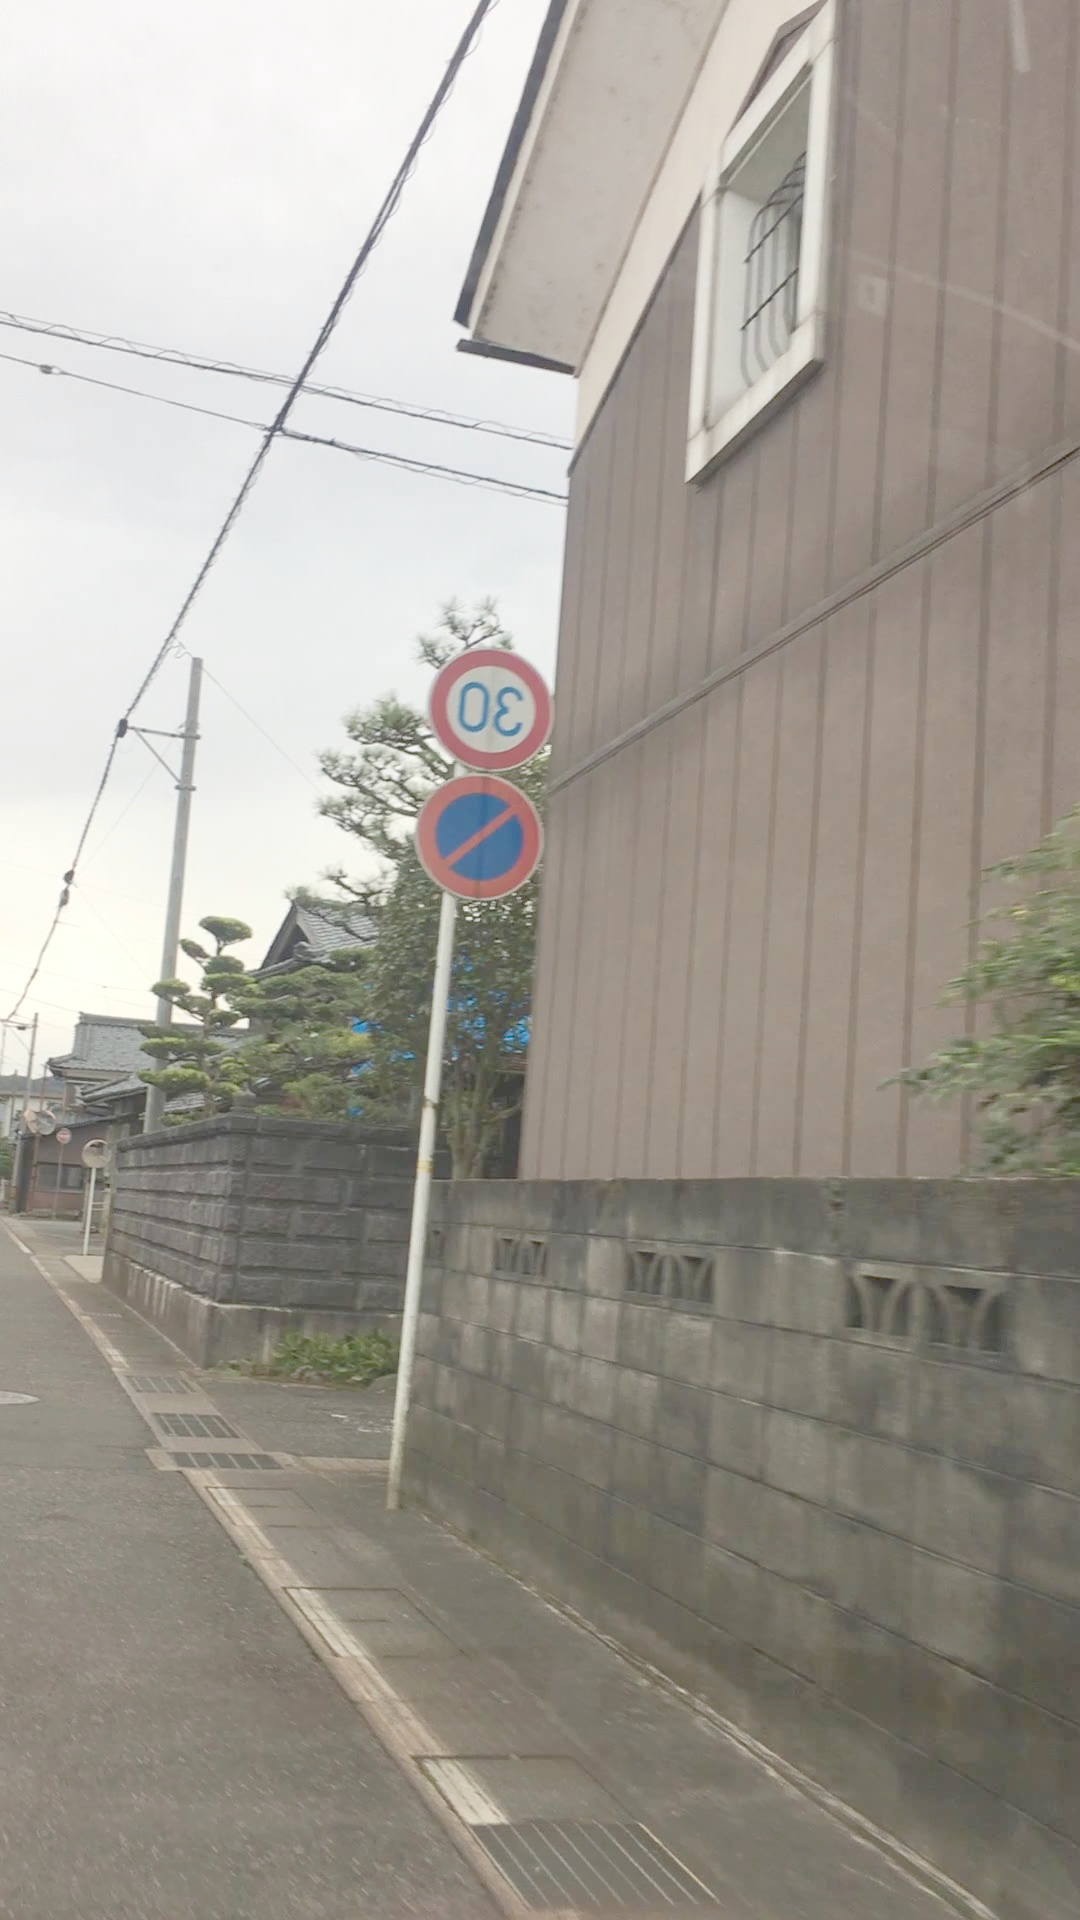Prohibition_sign: (410, 758, 542, 922)
Speed_sign: (433, 640, 556, 786)
